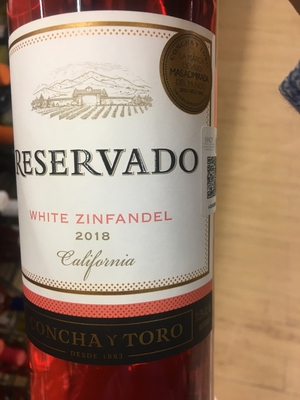reservado white zinfandel: (8, 10, 219, 400)
